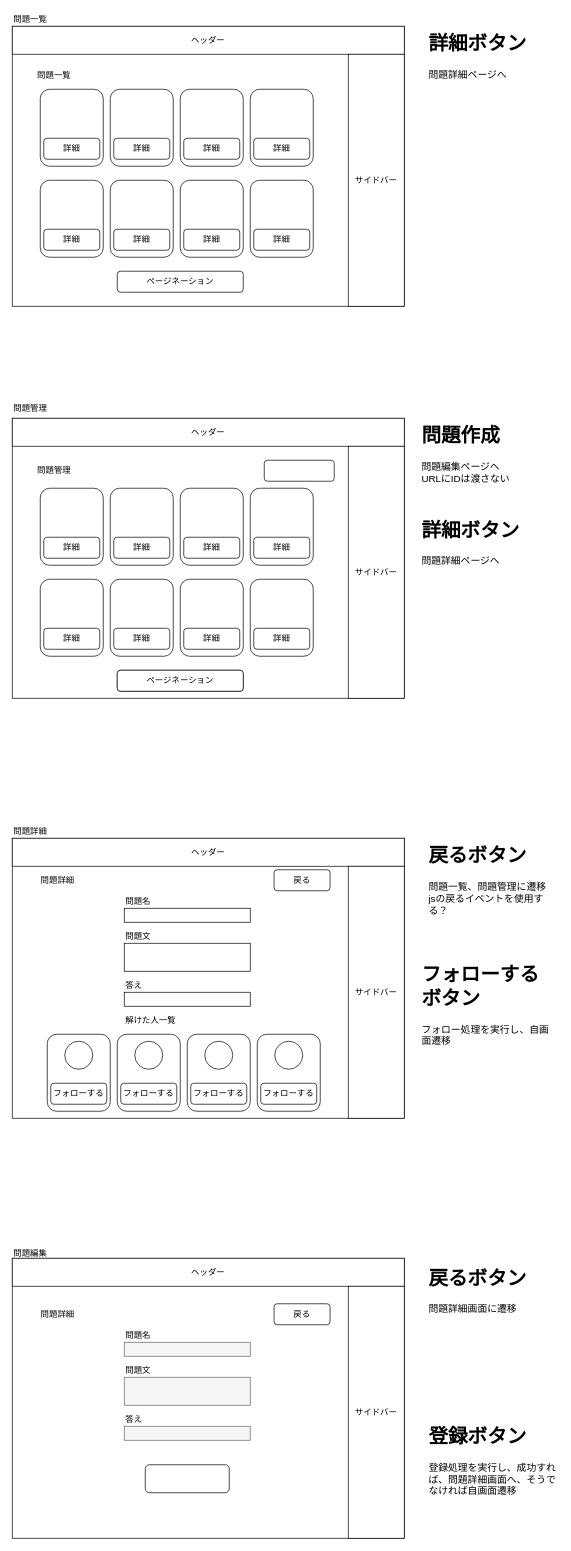
The diagram is 571 pixels wide and 1551 high, and some of its shapes have lost their labels. The shapes that lost their labels are listed below. From the top down, each one's centre as x and y in pixels, then its label:
At (x=299, y=470): "問題作成".
At (x=187, y=1478): "登録".
